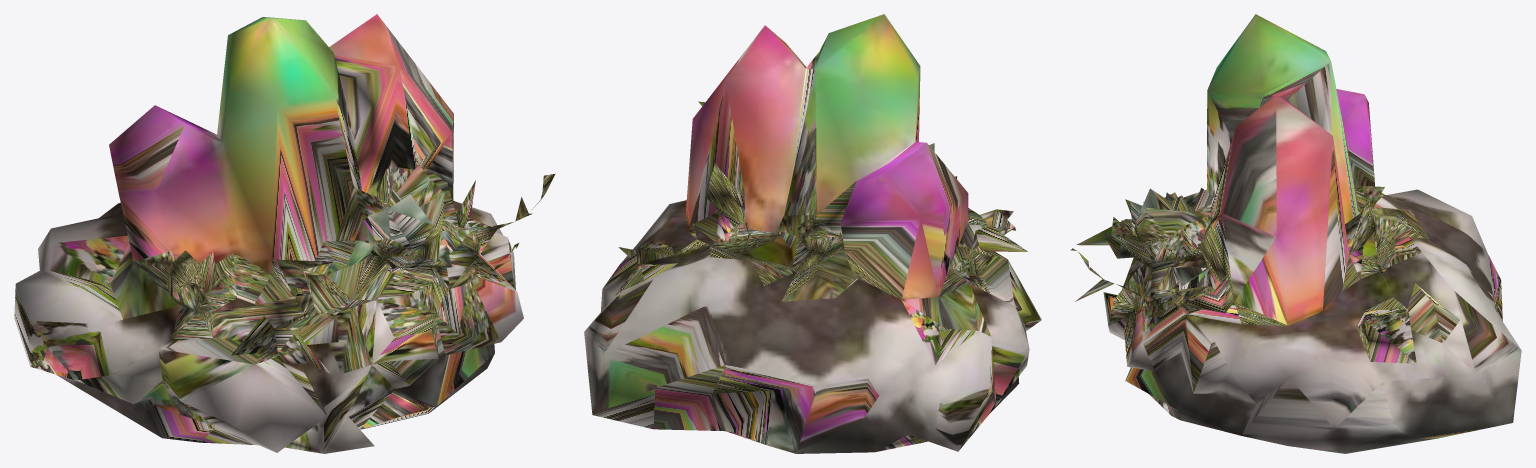
The model's file is a_large_rainbow_cryst.glb.
3 views of the same model, side by side, from view 1: azimuth 30°, elevation 25°; view 2: azimuth 150°, elevation 25°; view 3: azimuth 270°, elevation 25° (orthographic). The views are drawn at different scales.
Visible parts, largest first — view 1: a_large_rainbow_cryst; view 2: a_large_rainbow_cryst; view 3: a_large_rainbow_cryst.
Part boxes in pixels (left/top/right/bottom): a_large_rainbow_cryst: left=14, top=14, right=555, bottom=453; a_large_rainbow_cryst: left=584, top=14, right=1041, bottom=453; a_large_rainbow_cryst: left=1070, top=14, right=1521, bottom=453.
Bounding box in the file's own units: 1.83 × 1.64 × 1.88.
Materials: 1 (1 with a texture image).
